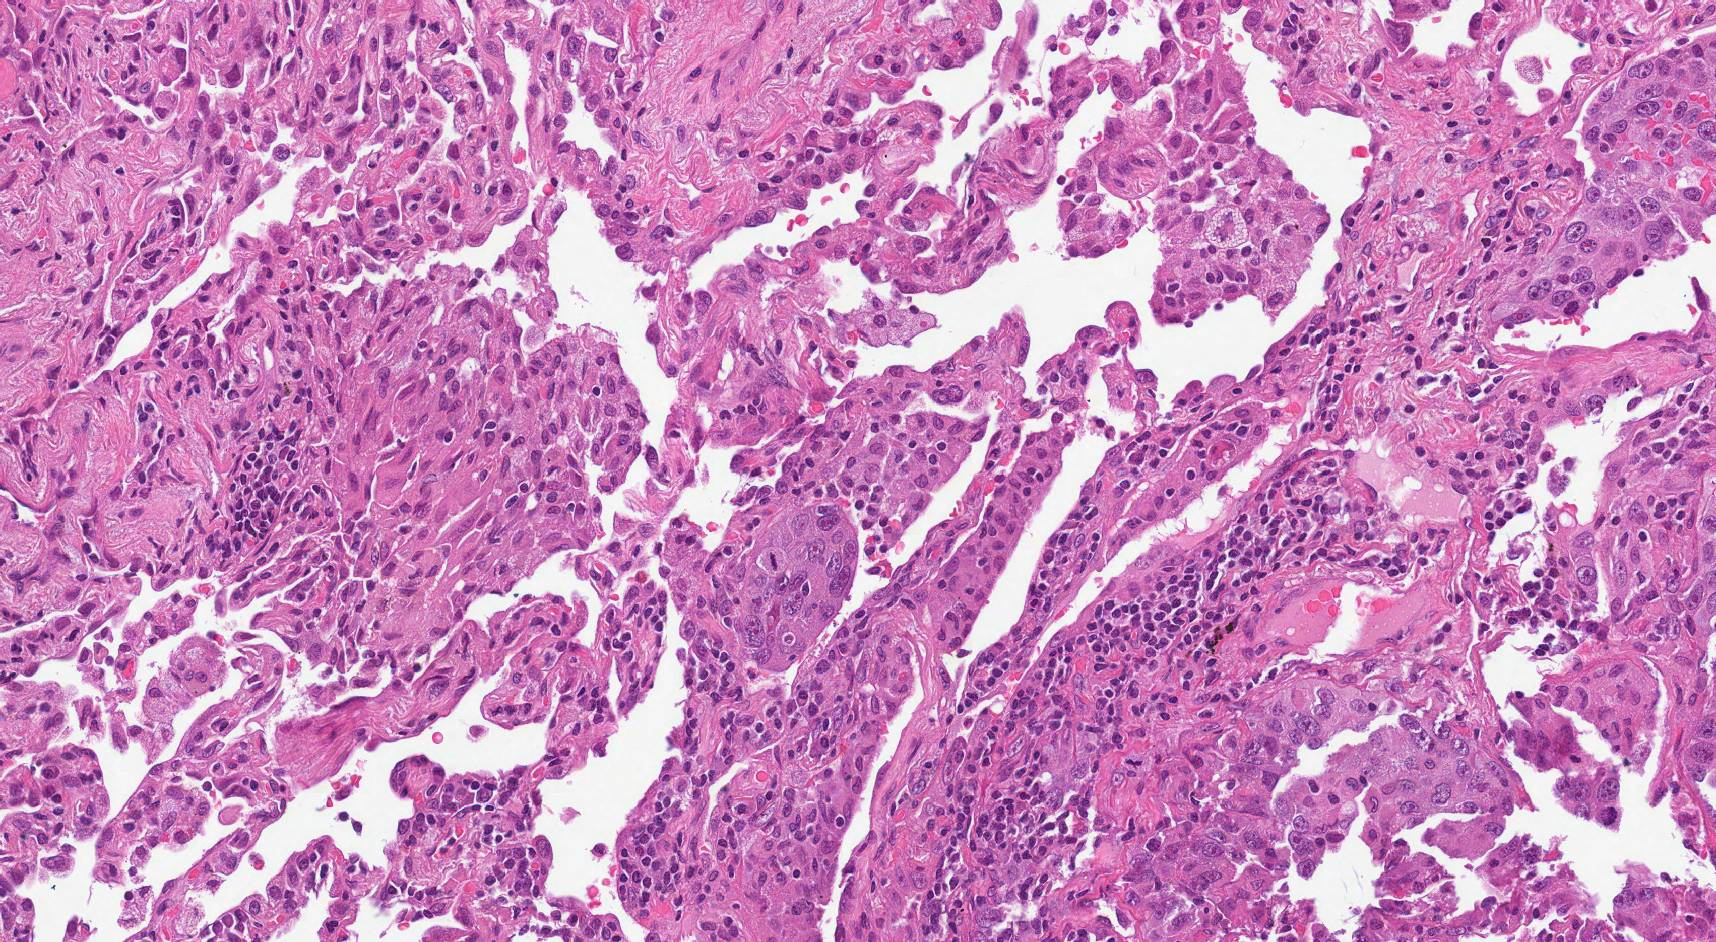stas: (716, 500, 858, 674)
